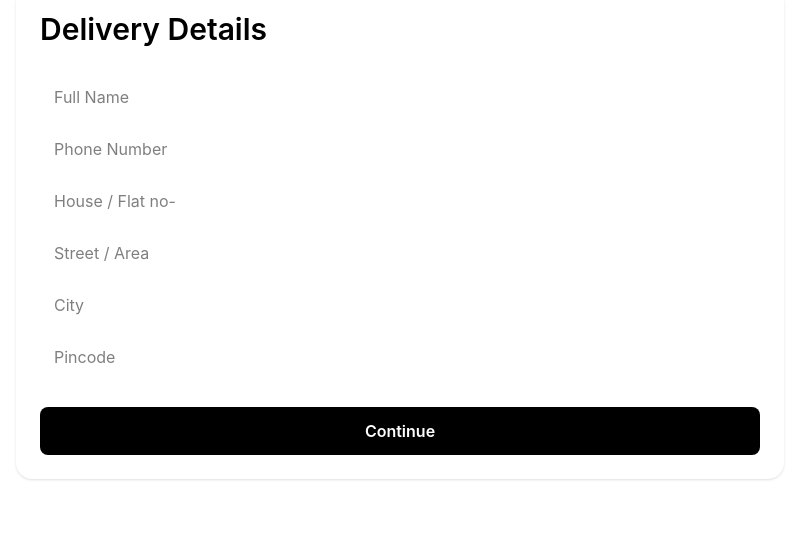
Test: CheckoutForm › show validation error for invalid phone and pincode
Type "Test User" into the field with placeholder "Full Name" at {"x": 400, "y": 97}, box [40,71,760,123]
Type "12345" into the field with placeholder "Phone Number" at {"x": 400, "y": 149}, box [40,123,760,175]
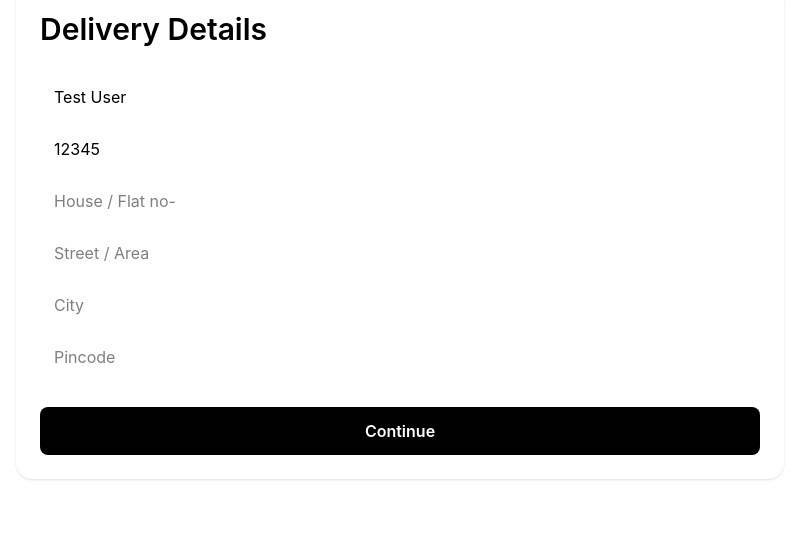
Type "12" into the field with placeholder "House / Flat no-" at {"x": 400, "y": 201}, box [40,175,760,227]
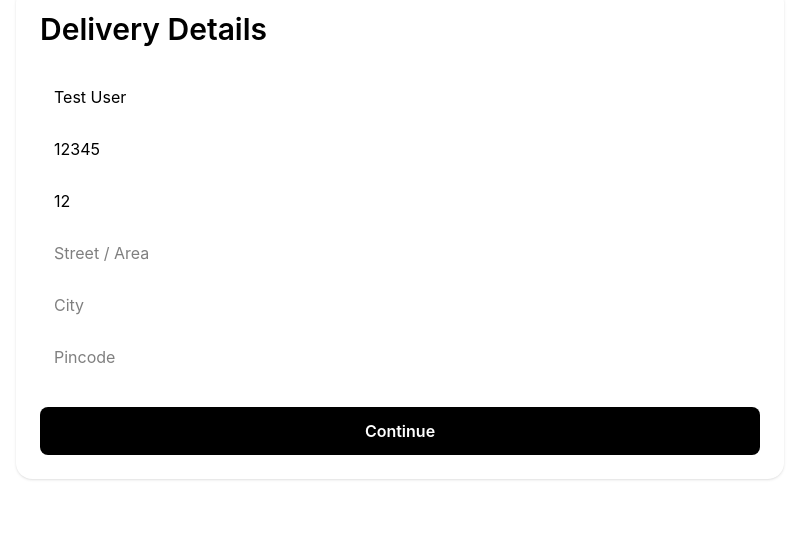
Type "Test Street" into the field with placeholder "Street / Area" at {"x": 400, "y": 253}, box [40,227,760,279]
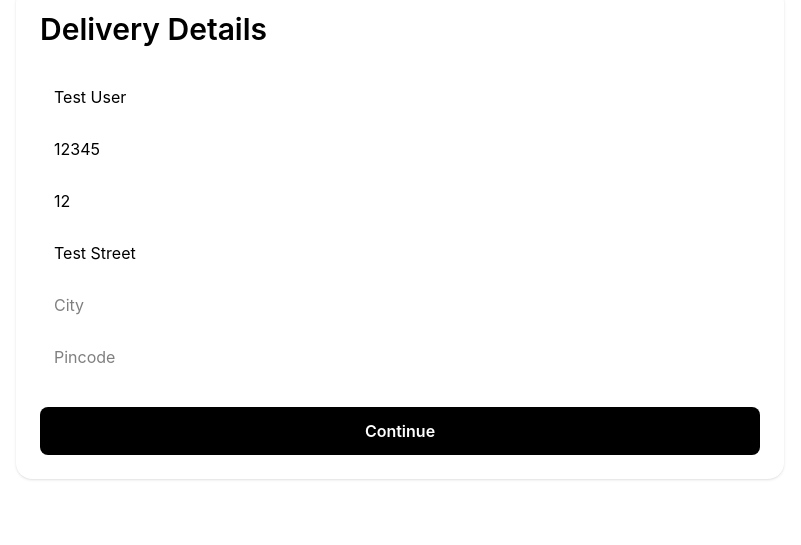
Type "Pune" into the field with placeholder "City" at {"x": 400, "y": 305}, box [40,279,760,331]
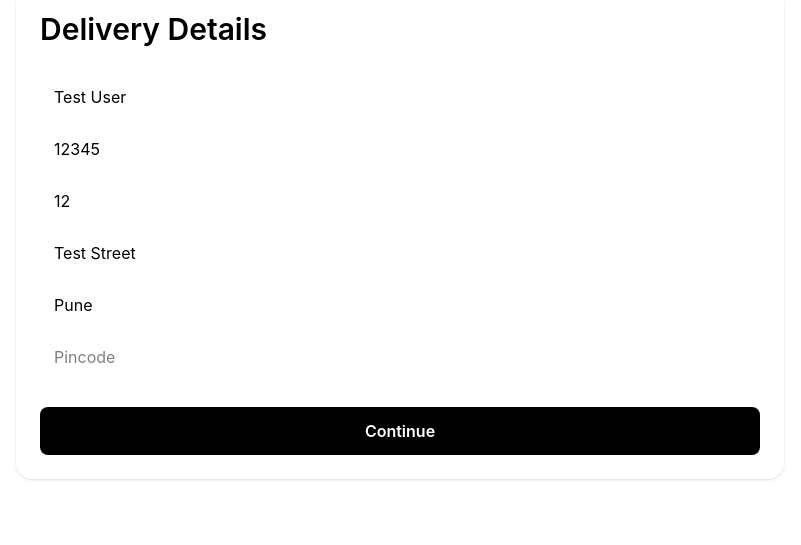
Type "123" into the field with placeholder "Pincode" at {"x": 400, "y": 357}, box [40,331,760,383]
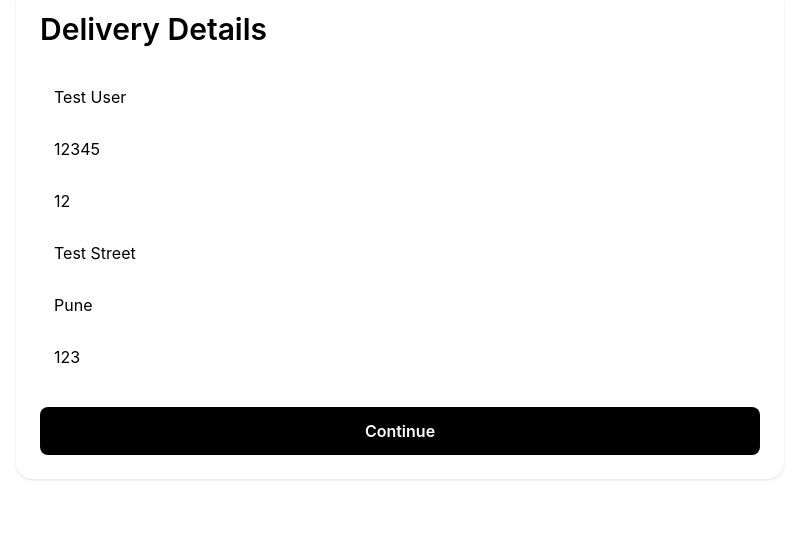
Click the button "Continue" at {"x": 400, "y": 431}, box [40,407,760,455]
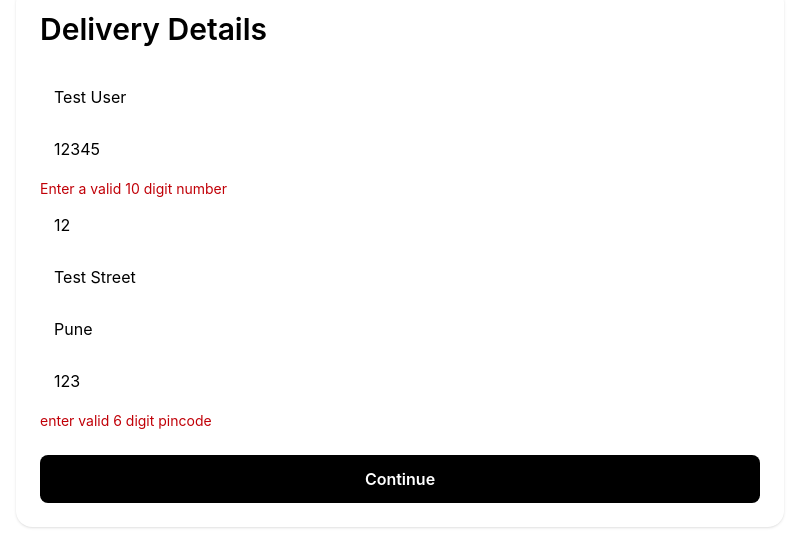
Now the text "Enter a valid 10 digit number" is shown, box [40,180,227,197]
Now the text "enter valid 6 digit pincode" is shown, box [40,412,212,429]
